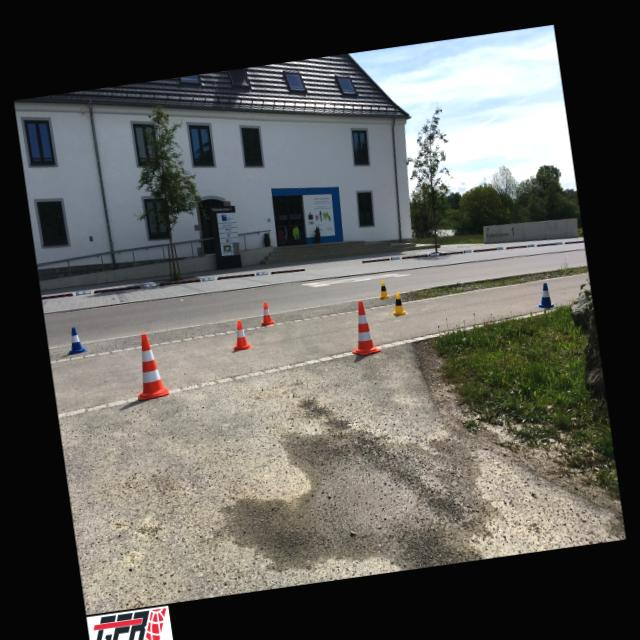blue_cone: (64, 326, 87, 354), (534, 282, 556, 310)
large_orange_cone: (130, 332, 170, 401), (346, 299, 380, 356)
orange_cone: (229, 320, 252, 350), (258, 302, 276, 326)
yellow_cone: (388, 292, 408, 316), (376, 280, 391, 299)
